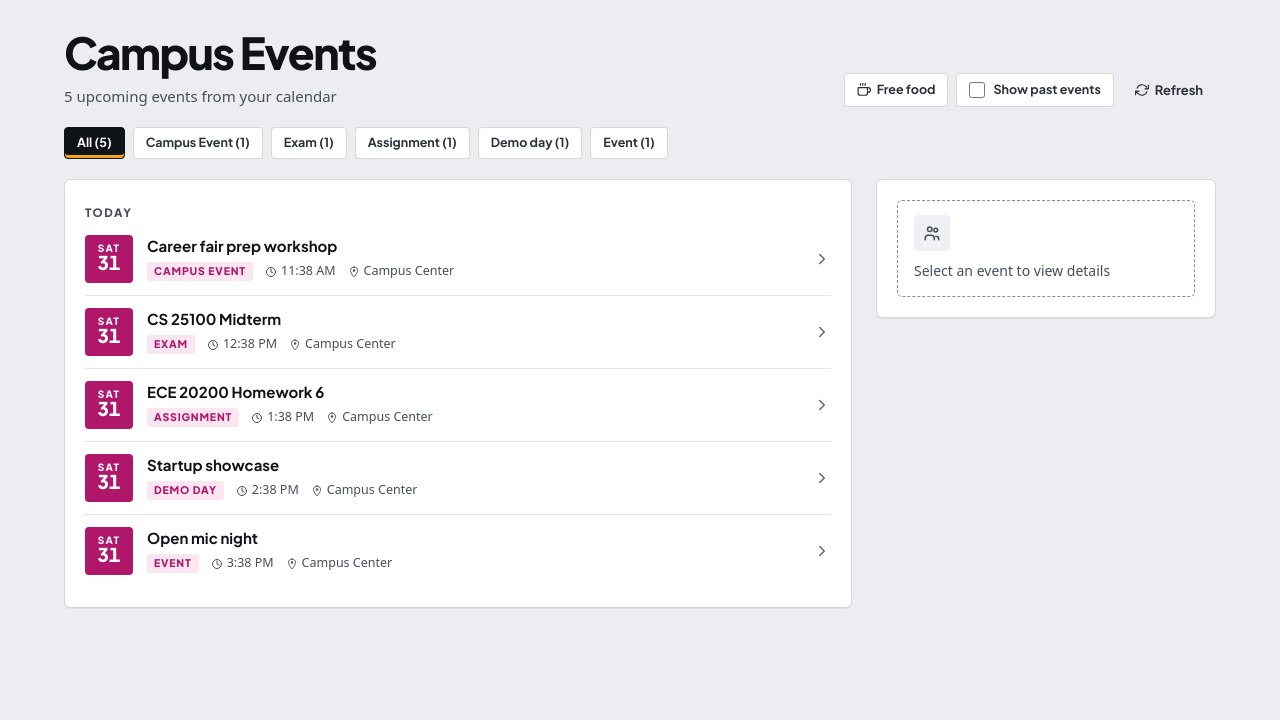
Test: category labels › gives each category its own badge, matching its pill and its filter
Expected: the text "Campus Event" is shown, 147,262 -> 253,281
Expected: the text "Exam" is shown, 147,335 -> 195,354
Click the button "Sat 31 CS 25100 Midterm Exam 12:38 PM Campus Center" at (109, 332), box 73,296 -> 843,368
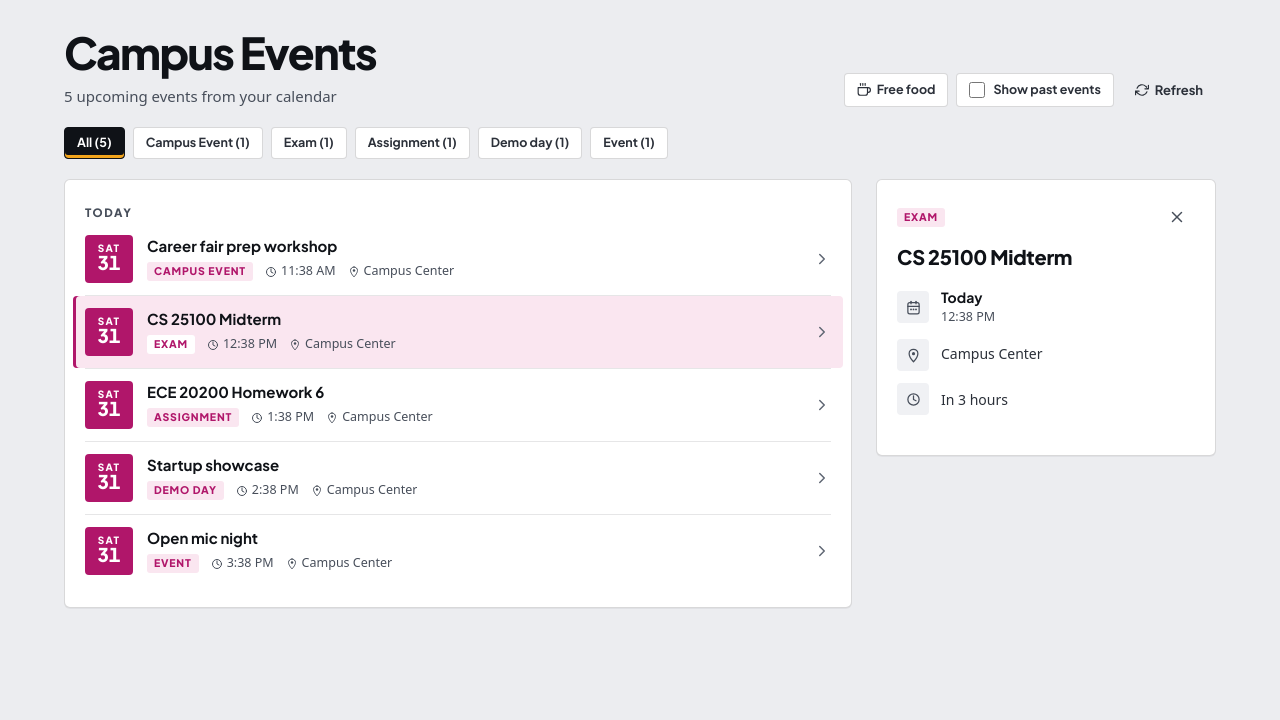
Expected: the 1st text "Exam" is shown, 897,208 -> 945,227
Click the button "Event (1)" at (629, 143), box 590,127 -> 668,159
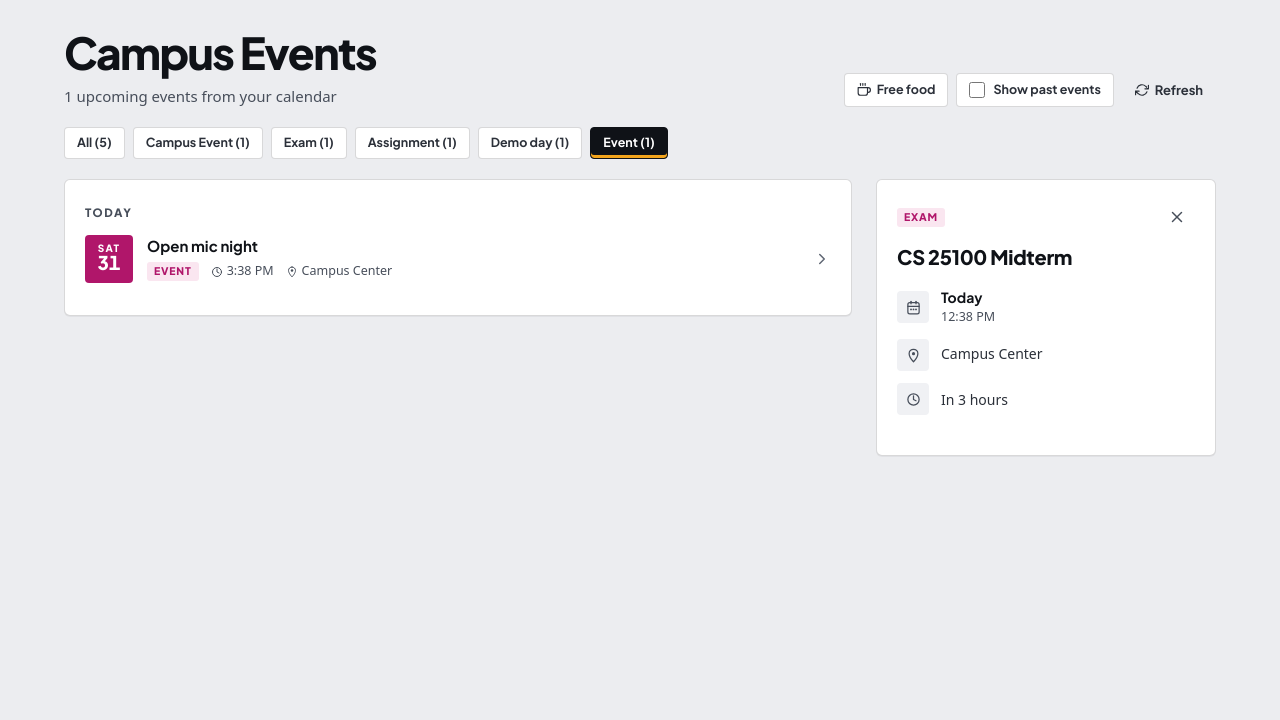
Expected: the button "Sat 31 Open mic night Event 3:38 PM Campus Center" is shown, 73,223 -> 843,295
Expected: the button "Career fair prep workshop" is gone
